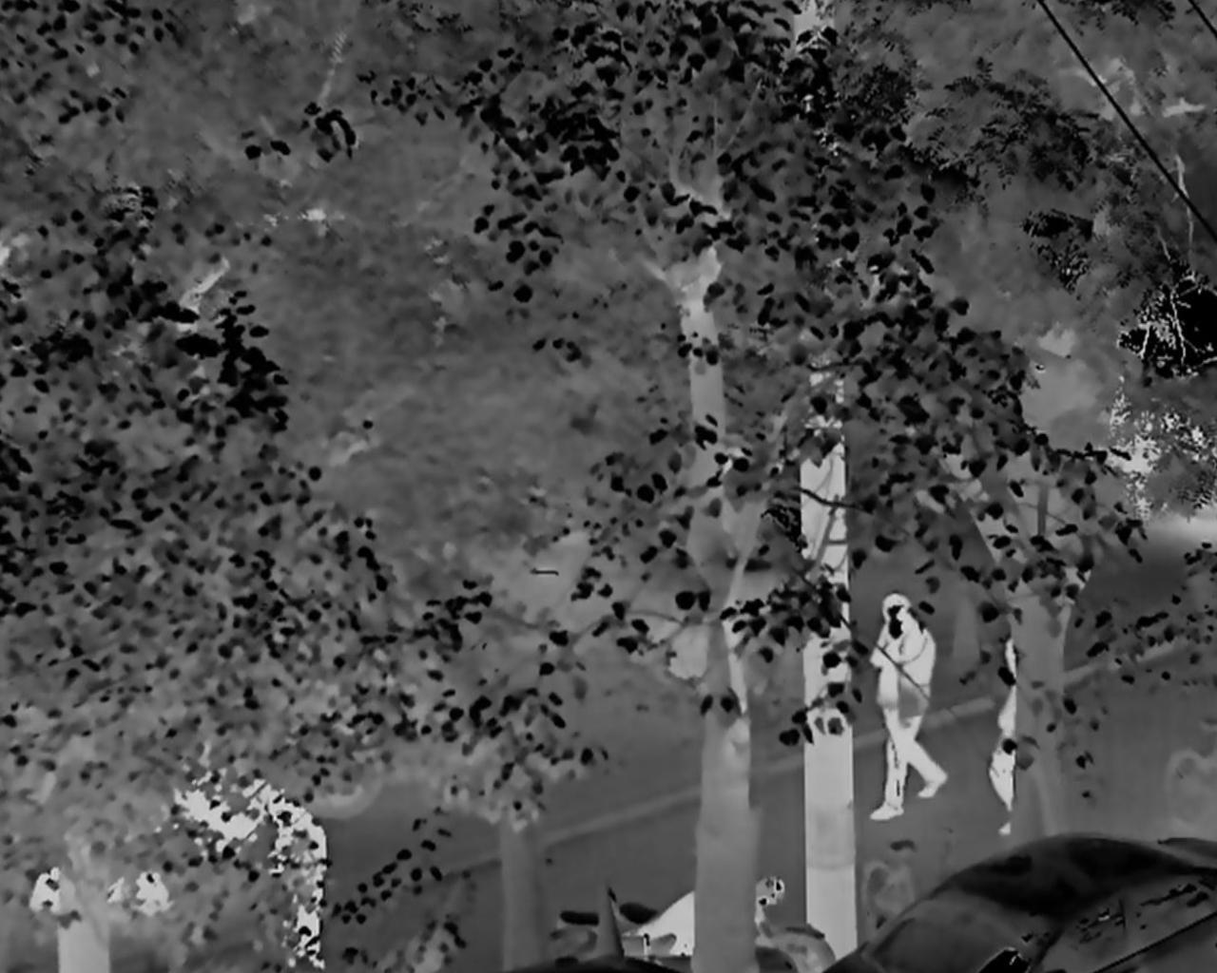person: (870, 594, 948, 822), (267, 798, 325, 973), (986, 633, 1017, 834)
